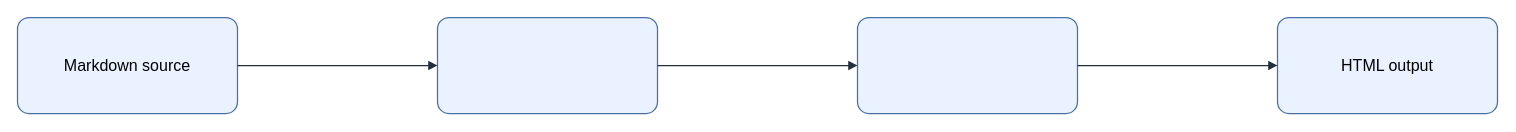
Some shapes in this 1516 by 132 pixel diagram are drawn without their labels. The box of each missing label's shape, as (x1, y1, x2, y2) in pixels:
Block parsing: (436, 16, 658, 114)
Inline parsing: (856, 16, 1078, 114)
